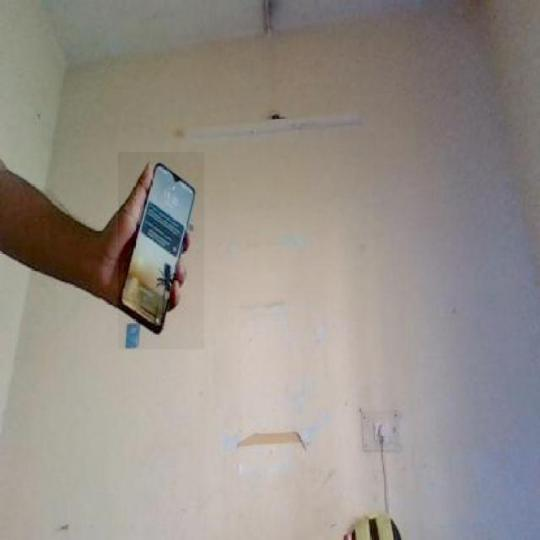phone: (118, 156, 197, 336)
